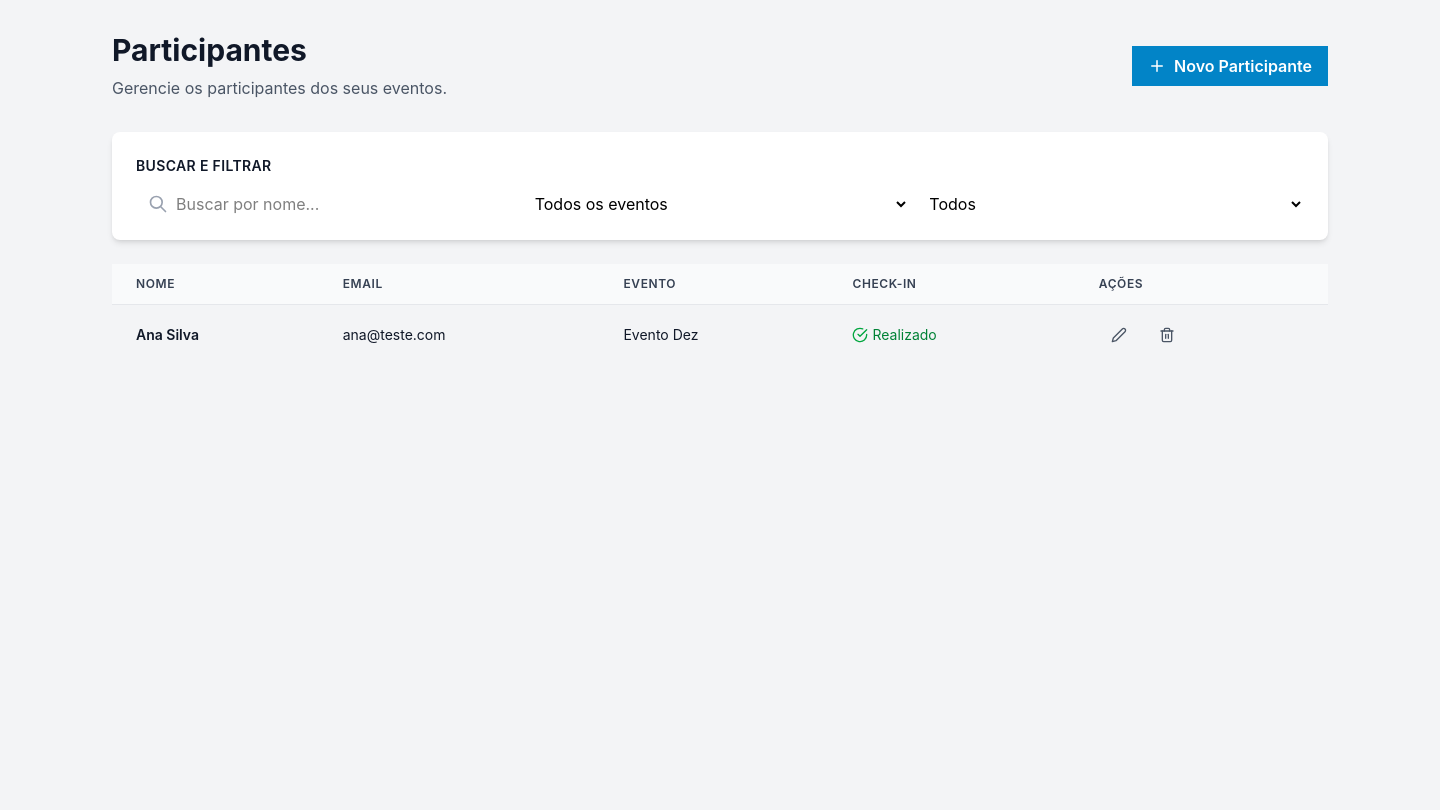
Test case: Participants Page › should remove participant after confirmation
Expected: the text "Ana Silva" is shown, [136,326,199,343]
Click the button titled "Remover participante" at (1167, 335), box [1147,321,1187,349]
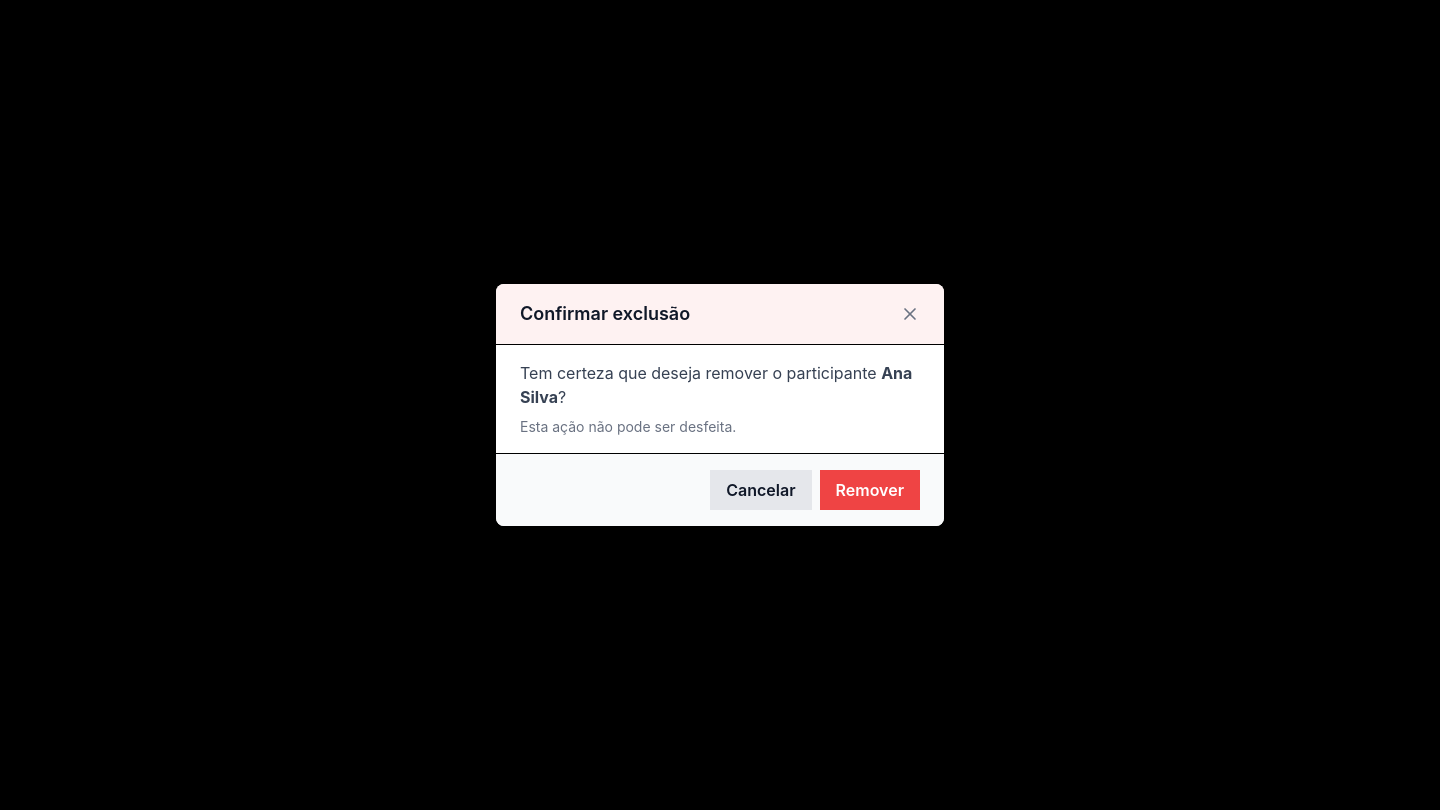
Click the button "Remover" at (870, 490), box [820,470,920,510]
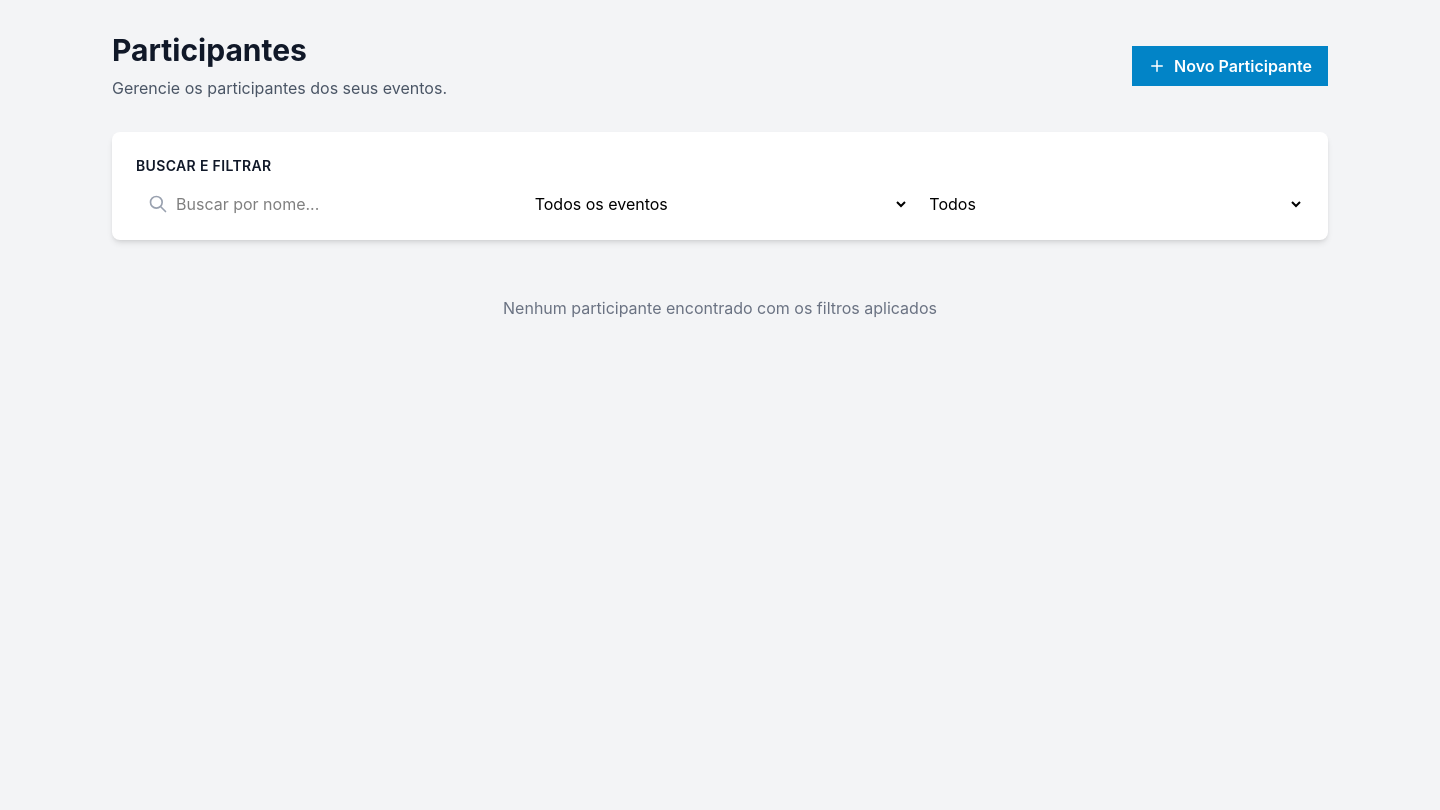
Expected: the text "Ana Silva" is gone
